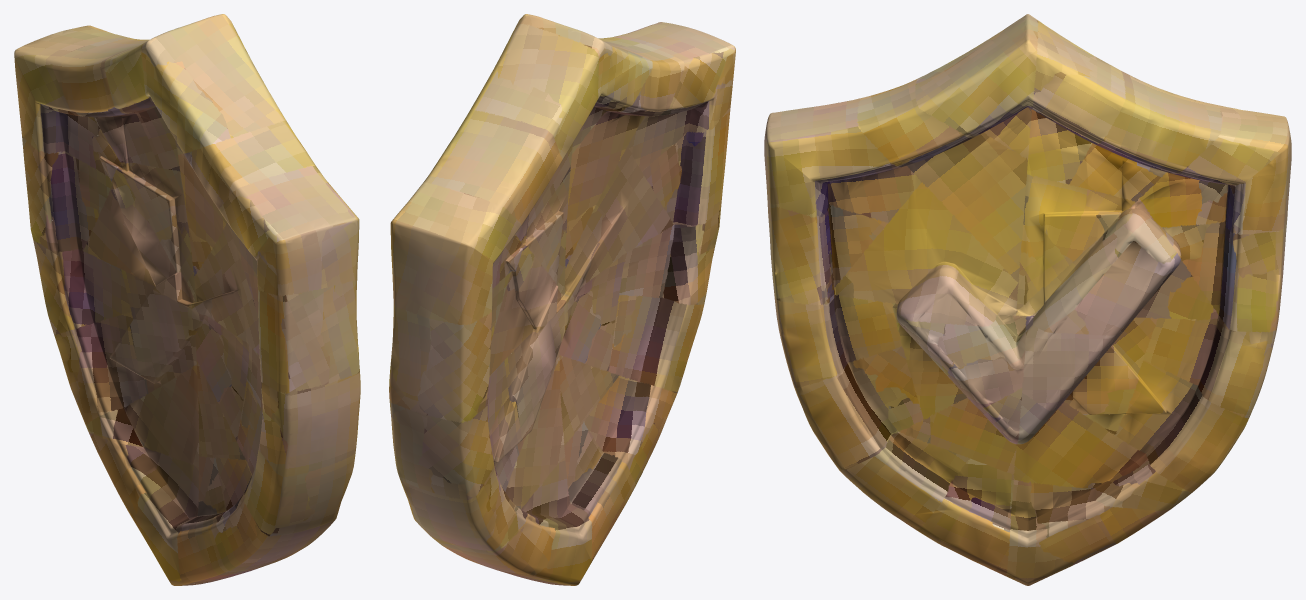
Rendered from prop_shield.glb.
3 views of the same model, side by side, from view 1: azimuth 30°, elevation 25°; view 2: azimuth 150°, elevation 25°; view 3: azimuth 270°, elevation 25° (orthographic). The views are drawn at different scales.
Parts seen in each view (by area): view 1: tripo_node_03d463a0-99ad-4c9f-8410-7fe40b8c920d; view 2: tripo_node_03d463a0-99ad-4c9f-8410-7fe40b8c920d; view 3: tripo_node_03d463a0-99ad-4c9f-8410-7fe40b8c920d.
Boxes of the visible parts, bbox=[...] form: tripo_node_03d463a0-99ad-4c9f-8410-7fe40b8c920d: bbox=[14, 14, 360, 585]; tripo_node_03d463a0-99ad-4c9f-8410-7fe40b8c920d: bbox=[389, 14, 735, 585]; tripo_node_03d463a0-99ad-4c9f-8410-7fe40b8c920d: bbox=[764, 14, 1291, 585].
Size of the model in its own units: 0.2316 by 0.98 by 0.8603.
1 material, 1 textured.
